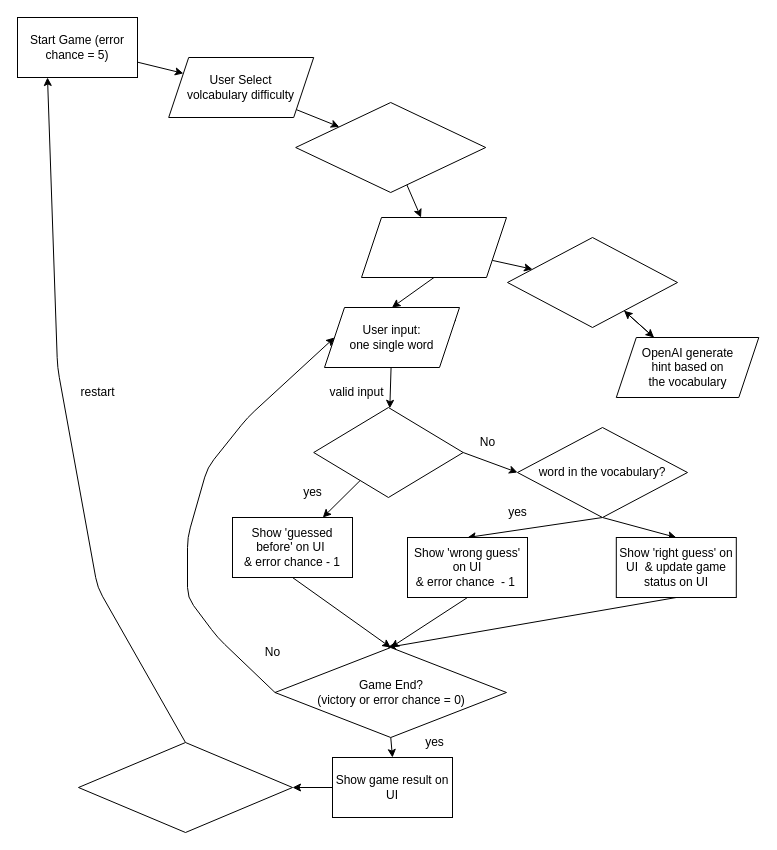
Image size: 777x850. Some labels were removed from this diagram. The centre of each missing label's shape, as x and y in pixels:
"Guessed before?" belongs at point (388, 452).
"OpenAI generate volcabulary to guess" belongs at point (433, 247).
"UI 'Hint' button pressed?" belongs at point (592, 282).
"UI 'Play again' button pressed?" belongs at point (185, 787).
"UI 'Submit' button pressed?" belongs at point (390, 147).
